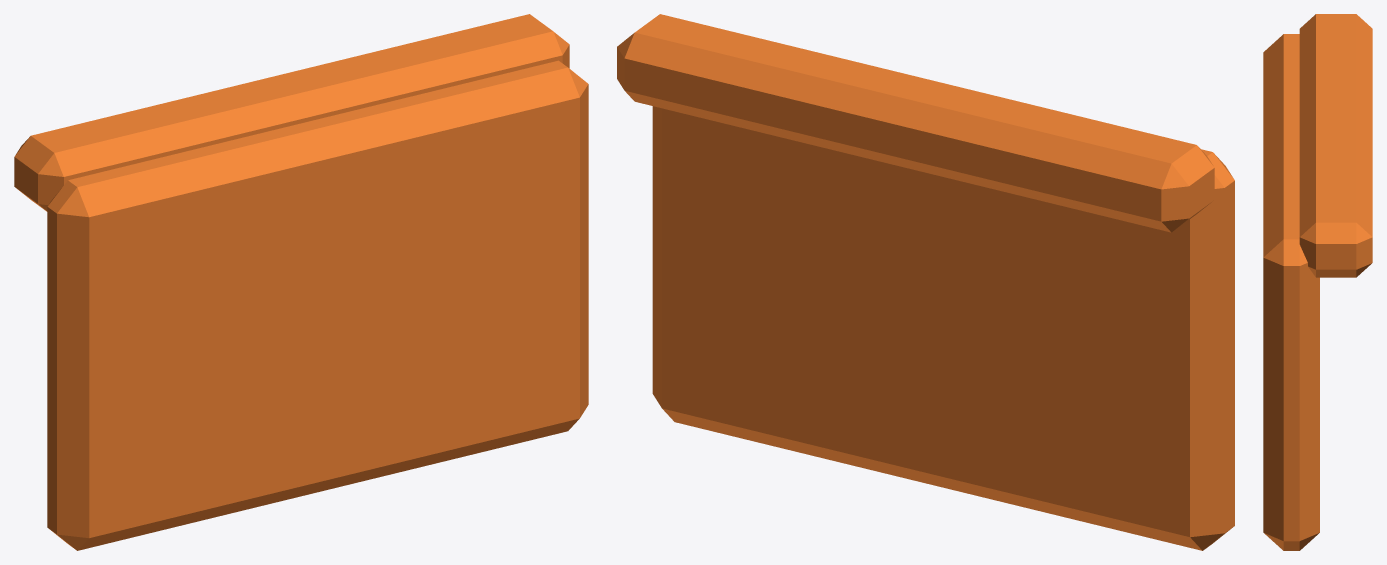
Rendered from Towel.glb.
The picture shows the model from 3 angles, left to right: view 1: azimuth 30°, elevation 25°; view 2: azimuth 150°, elevation 25°; view 3: azimuth 270°, elevation 25°; orthographic projection. The views are drawn at different scales.
Parts seen in each view (by area): view 1: Body; view 2: Body; view 3: Body.
Part boxes in pixels (box(x1,y1,x2,y2)): Body: box(14, 14, 588, 550); Body: box(617, 14, 1234, 550); Body: box(1263, 14, 1372, 550).
Bounding box in the file's own units: 0.26 × 0.18 × 0.054.
